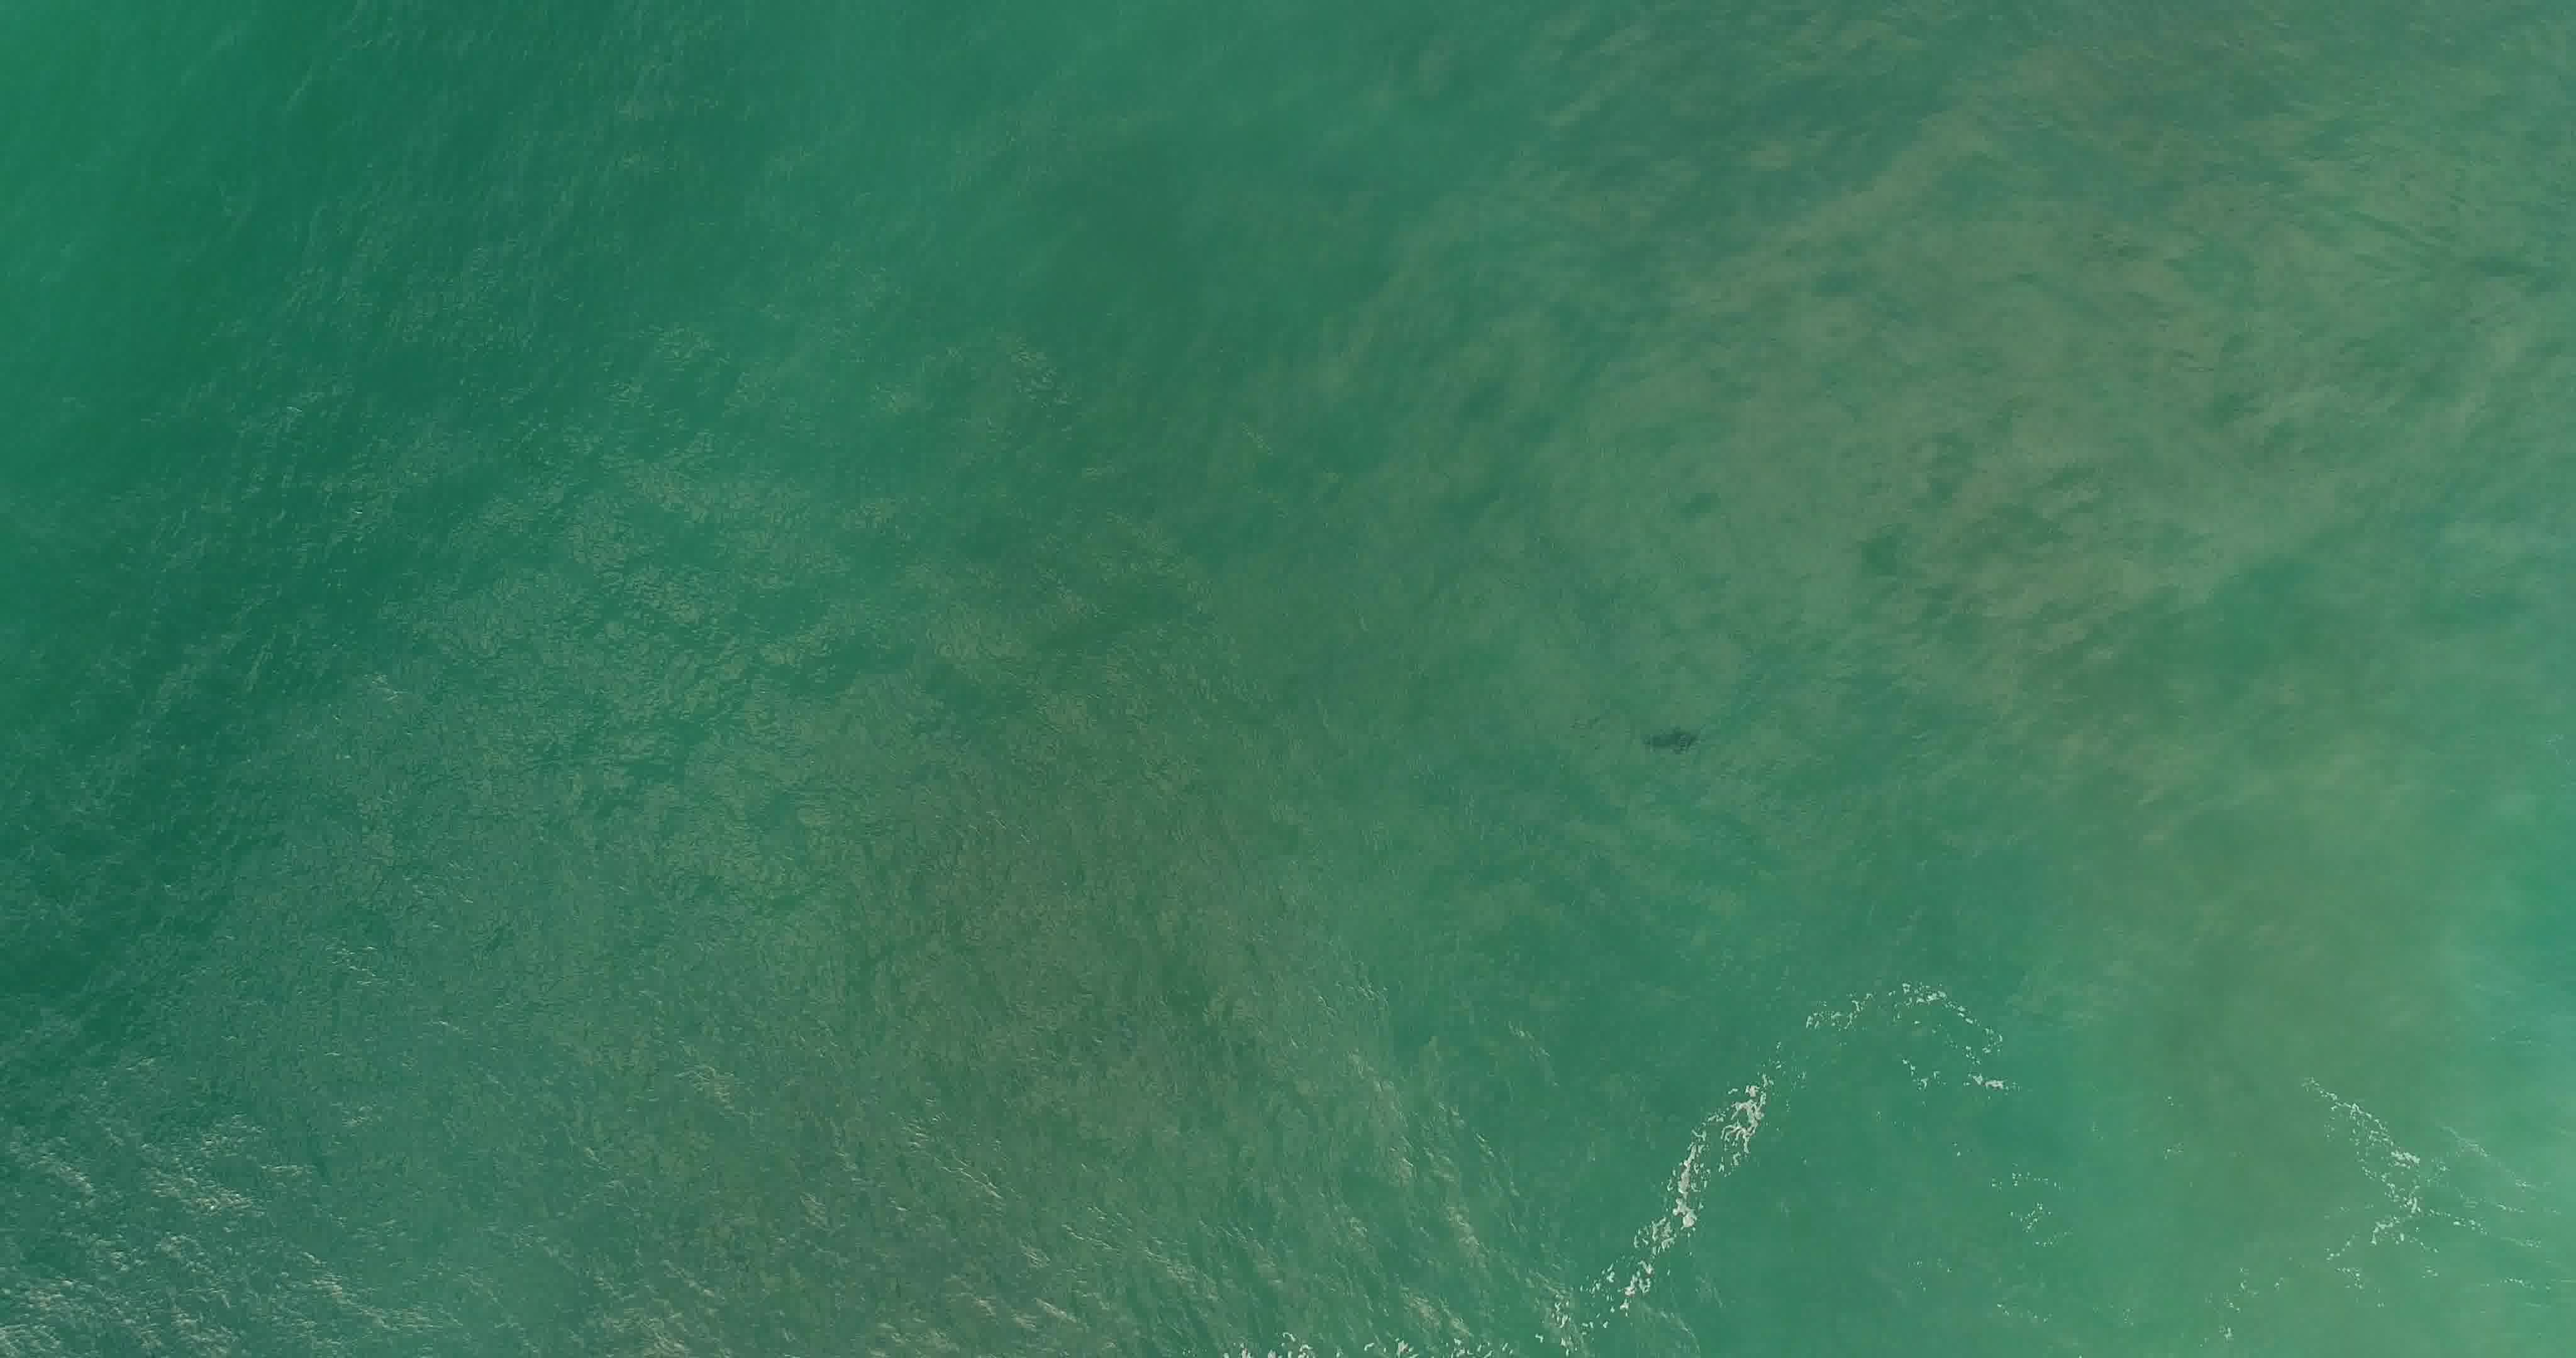shark: (1644, 726, 1702, 753)
